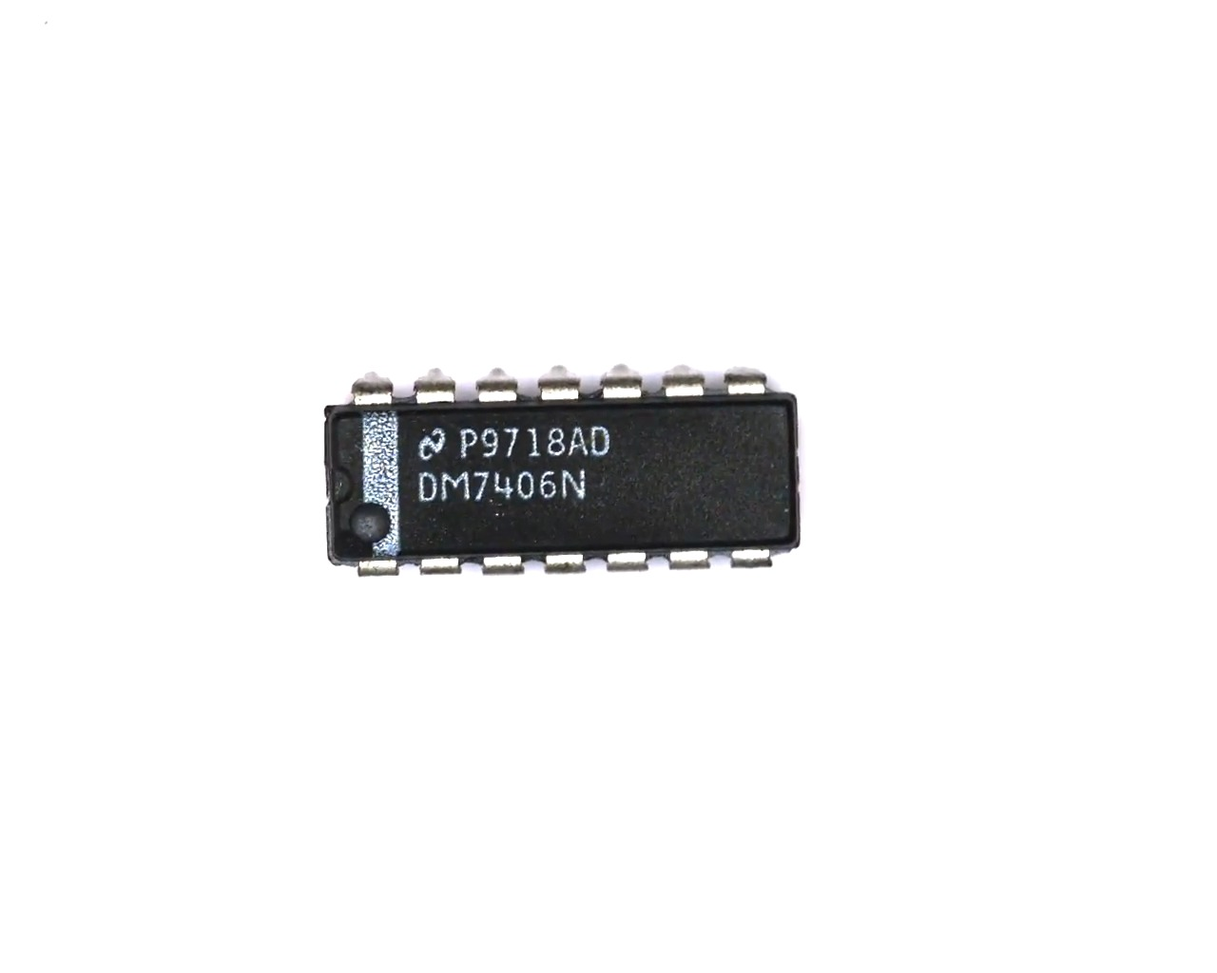IC: (312, 352, 811, 592)
notch: (321, 462, 359, 508)
